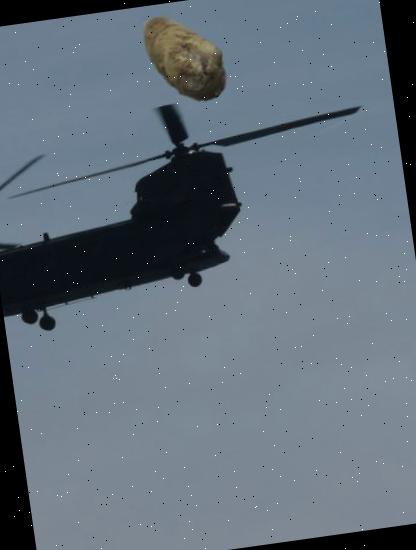Ginger: (124, 0, 243, 117)
